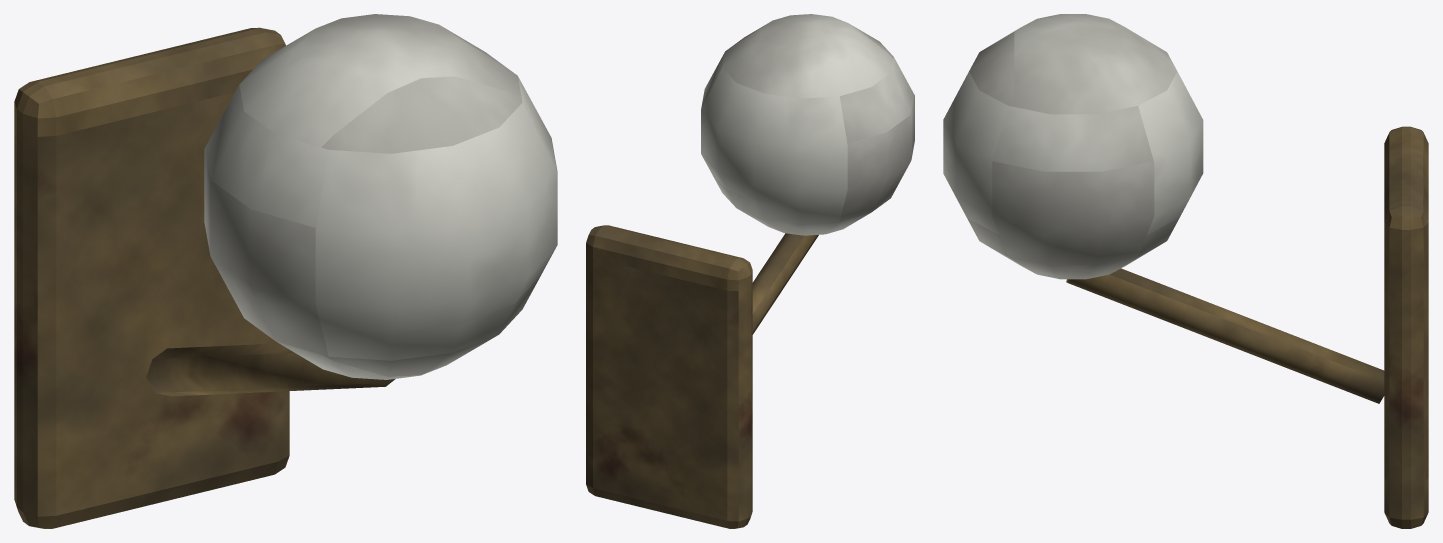
The model's file is U01_wall_sconce_v2.glb.
3 renders of one model, left to right at view 1: azimuth 30°, elevation 25°; view 2: azimuth 150°, elevation 25°; view 3: azimuth 270°, elevation 25°, orthographic. The views are drawn at different scales.
Visible parts, largest first — view 1: U01_wall_sconce_v2; view 2: U01_wall_sconce_v2; view 3: U01_wall_sconce_v2.
Part boxes in pixels (x1,y1,x2,y2): U01_wall_sconce_v2: (14, 14, 557, 528); U01_wall_sconce_v2: (586, 14, 914, 528); U01_wall_sconce_v2: (943, 14, 1428, 528).
Bounding box in the file's own units: 0.1488 × 0.3 × 0.285.
Materials: 3 (3 with a texture image).
